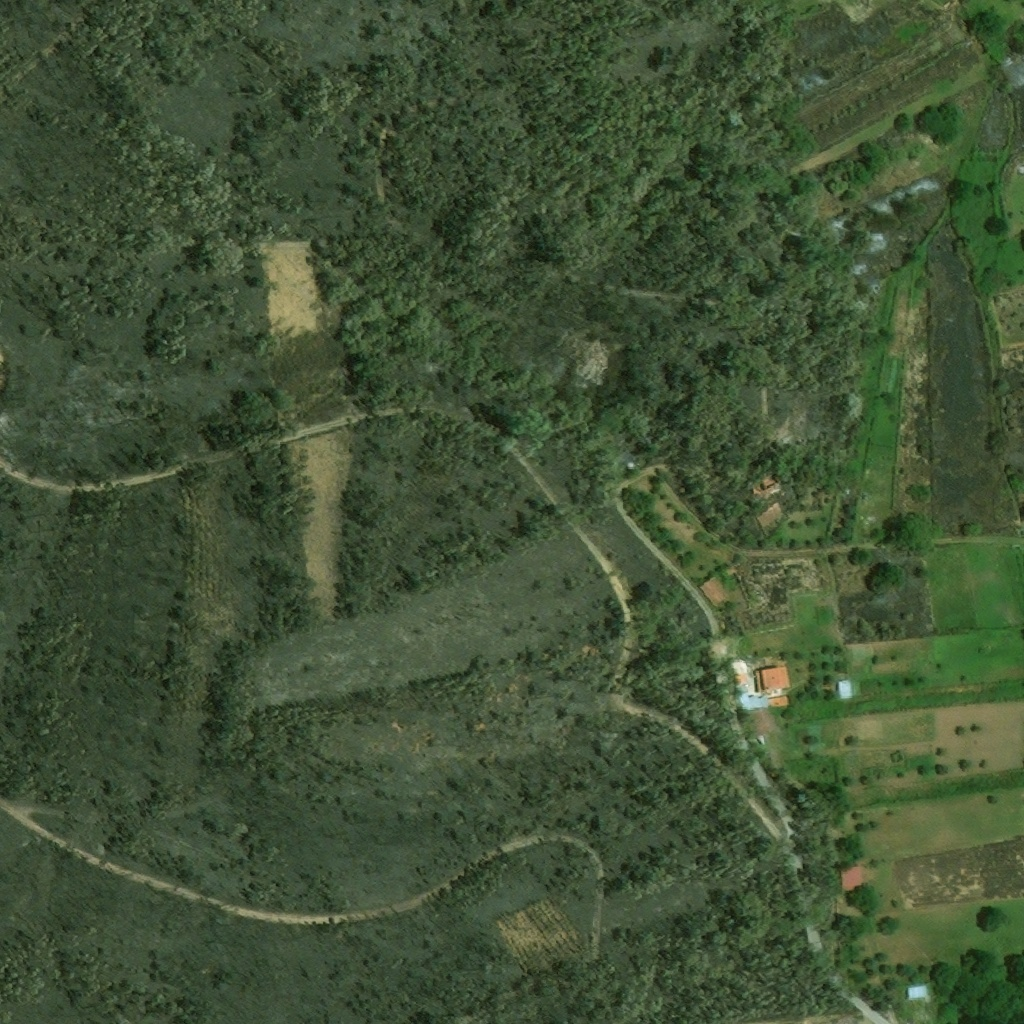0 no-damage: (726, 663, 767, 710), (753, 665, 788, 694), (755, 503, 784, 531), (836, 863, 862, 894), (746, 475, 778, 495), (903, 983, 926, 1000), (835, 679, 851, 700), (767, 697, 787, 708), (757, 733, 773, 746)
4 un-classified: (855, 500, 870, 516)
